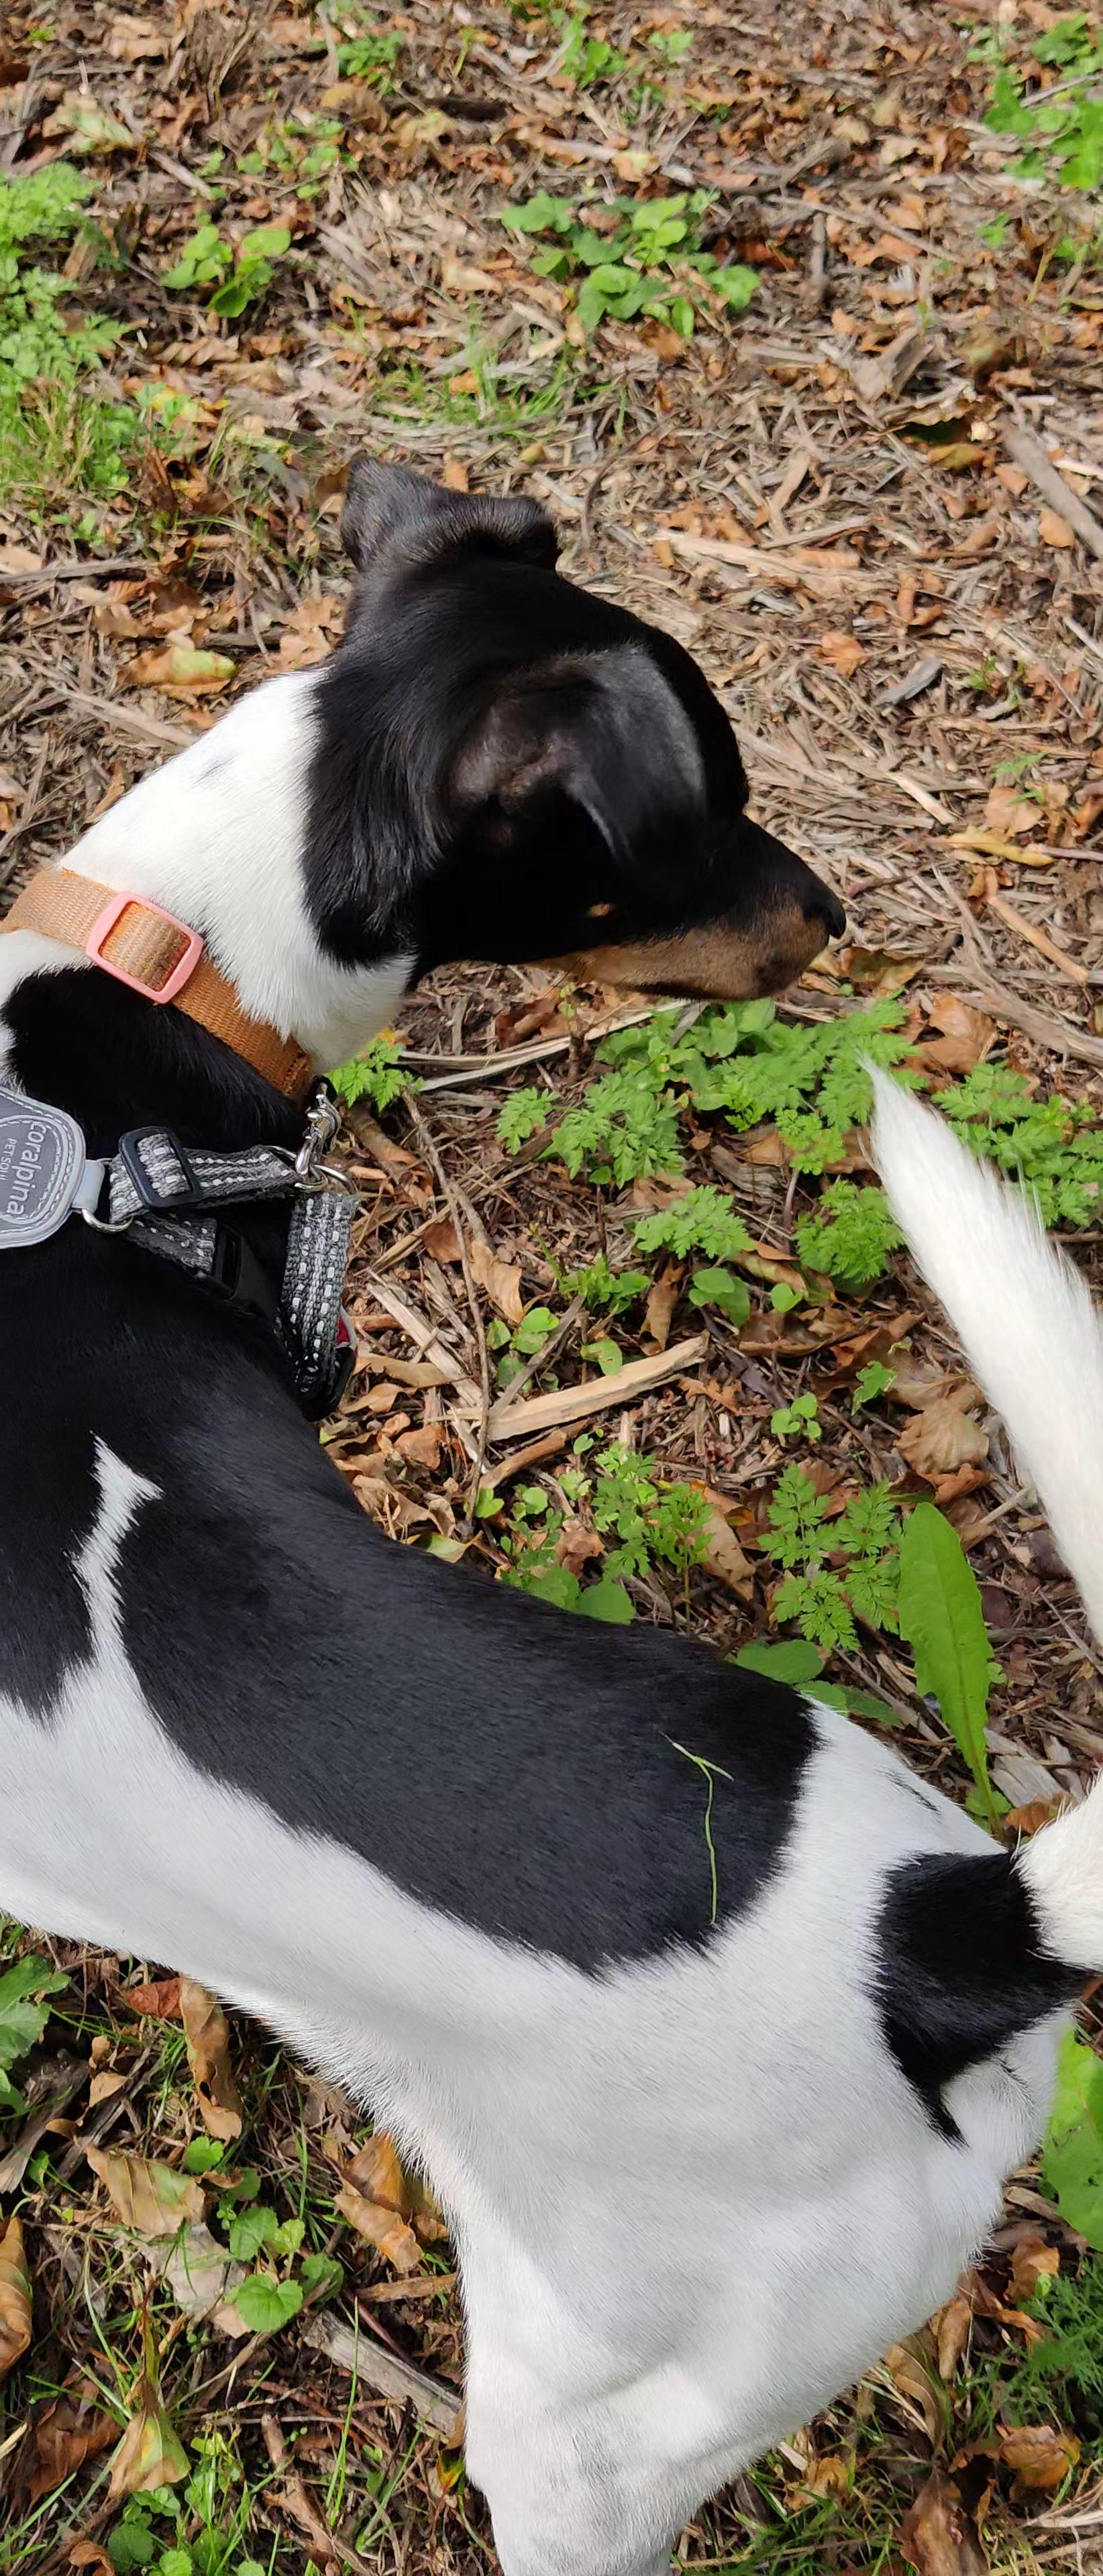Dog: (0, 444, 1103, 2576)
